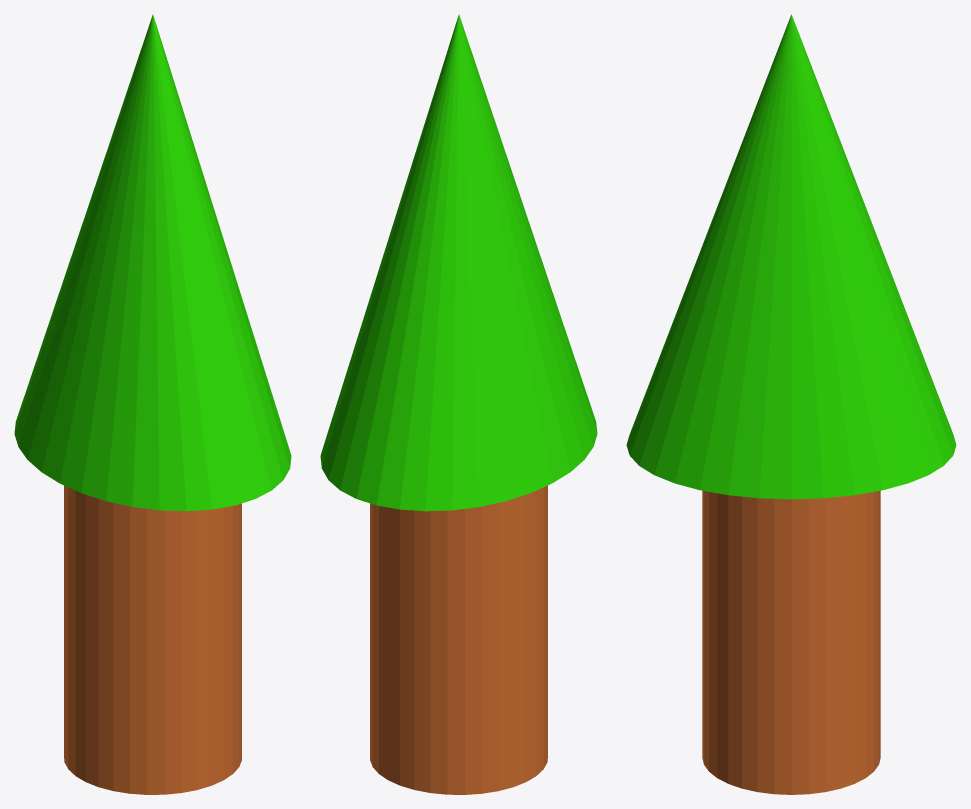
The model's file is Tree.fbx.
The picture shows the model from 3 angles, left to right: view 1: azimuth 30°, elevation 25°; view 2: azimuth 150°, elevation 25°; view 3: azimuth 270°, elevation 25°; orthographic projection.
Parts seen in each view (by area): view 1: Cone, Cylinder; view 2: Cone, Cylinder; view 3: Cone, Cylinder.
Boxes of the visible parts, x1,y1,x2,y2 form: Cone: [14, 14, 291, 511]; Cylinder: [64, 485, 241, 794]; Cone: [320, 14, 597, 511]; Cylinder: [370, 485, 547, 794]; Cone: [626, 14, 956, 499]; Cylinder: [702, 490, 880, 794].
Bounding box in the file's own units: 288 × 918 × 370.
